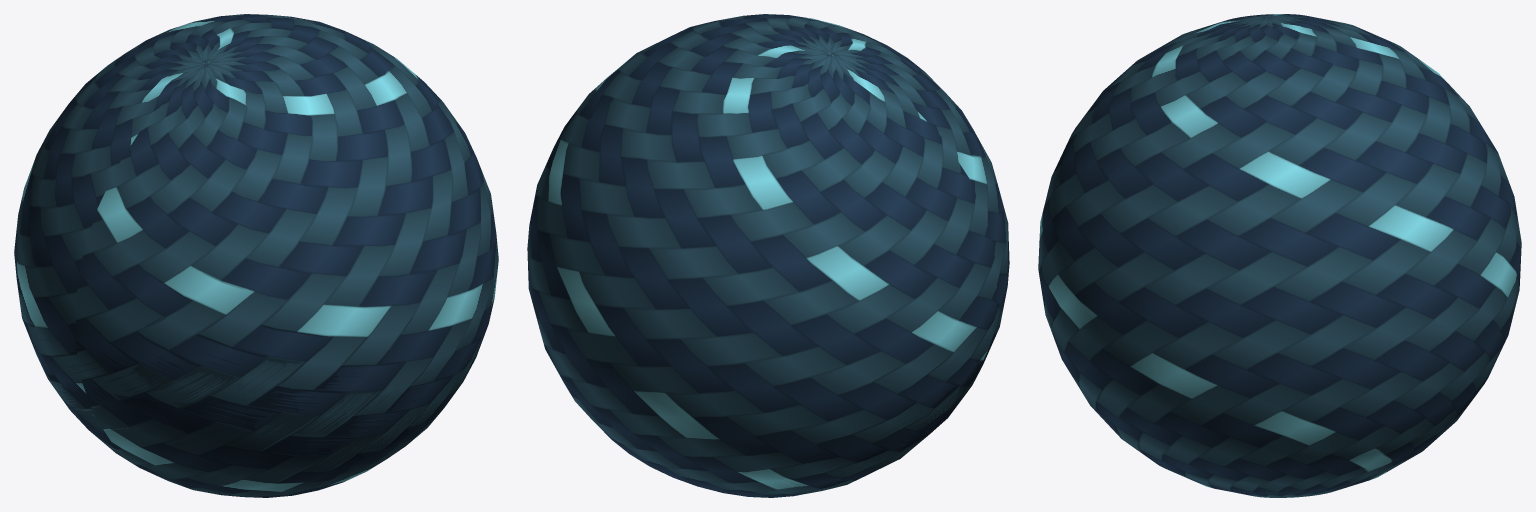
Rendered from ball_blueMesh.gltf.
3 renders of one model, left to right at view 1: azimuth 30°, elevation 25°; view 2: azimuth 150°, elevation 25°; view 3: azimuth 270°, elevation 25°, orthographic.
Visible parts, largest first — view 1: blueMesh; view 2: blueMesh; view 3: blueMesh.
Part boxes in pixels (x1,y1,x2,y2): blueMesh: (14,14,498,497); blueMesh: (527,14,1009,497); blueMesh: (1038,14,1521,497).
Size of the model in its own units: 0.2492 by 0.2491 by 0.2496.
1 material, 1 textured.
